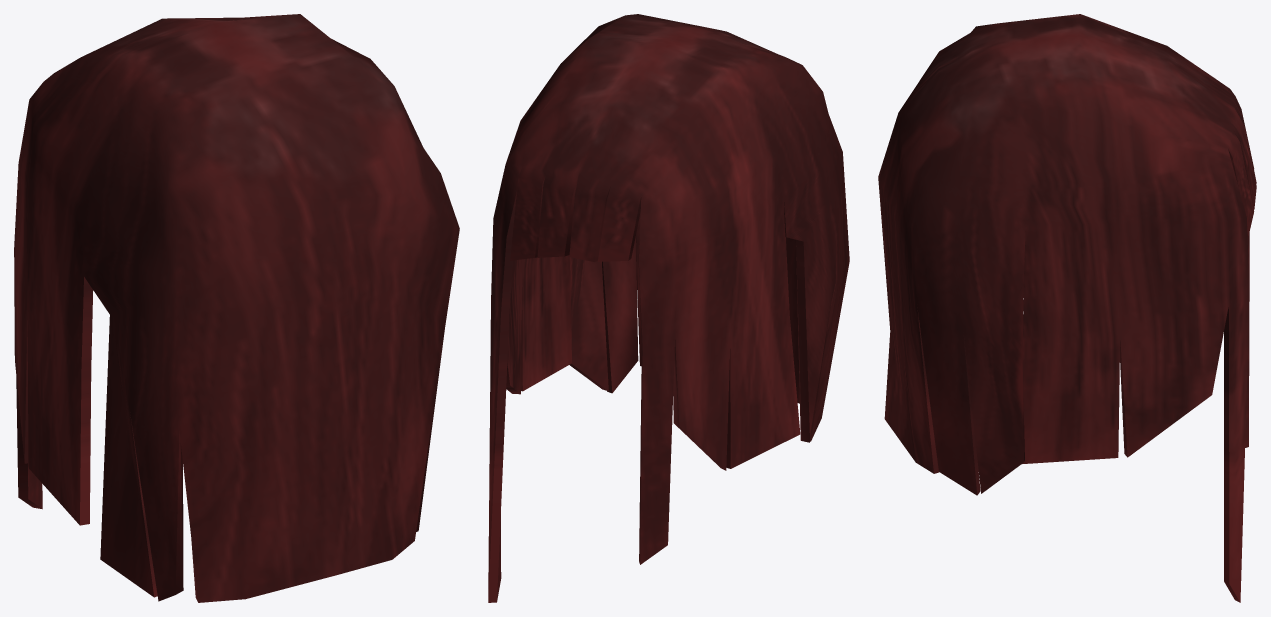
File: hair0v2.glb
3 views of the same model, side by side, from view 1: azimuth 30°, elevation 25°; view 2: azimuth 150°, elevation 25°; view 3: azimuth 270°, elevation 25° (orthographic). The views are drawn at different scales.
Parts seen in each view (by area): view 1: hair0; view 2: hair0; view 3: hair0.
Boxes of the visible parts, x1=… form: hair0: x1=14, y1=14, x2=459, y2=602; hair0: x1=488, y1=14, x2=849, y2=602; hair0: x1=878, y1=14, x2=1256, y2=602.
Size of the model in its own units: 0.1646 by 0.3236 by 0.2122.
1 material, 1 textured.
